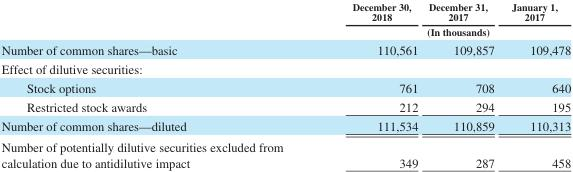table: (0, 0, 570, 169)
table column: (0, 0, 317, 169), (317, 0, 422, 169), (422, 0, 502, 169), (502, 0, 570, 169)
table column header: (0, 0, 570, 40)
table projected row header: (0, 59, 570, 78)
table row: (0, 136, 570, 169), (0, 0, 570, 24), (0, 116, 570, 136), (0, 40, 570, 59), (0, 59, 570, 78), (0, 78, 570, 97), (0, 97, 570, 116), (0, 24, 570, 40)
table spanning cell: (317, 24, 570, 40)
